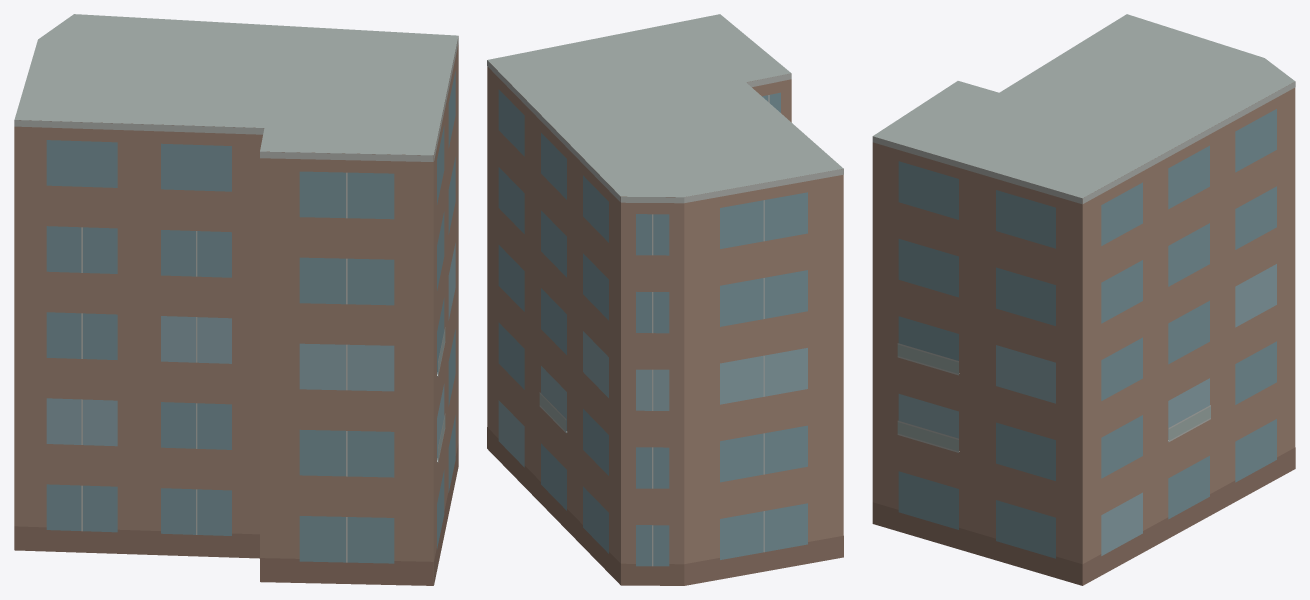
The model's file is survey-upis-33031201.glb.
The picture shows the model from 3 angles, left to right: view 1: azimuth 30°, elevation 25°; view 2: azimuth 150°, elevation 25°; view 3: azimuth 270°, elevation 25°; orthographic projection. The views are drawn at different scales.
Visible parts, largest first — view 1: survey-upis-33031201.tmp; view 2: survey-upis-33031201.tmp; view 3: survey-upis-33031201.tmp.
Boxes of the visible parts, x1,y1,x2,y2 form: survey-upis-33031201.tmp: [14, 14, 458, 585]; survey-upis-33031201.tmp: [487, 14, 843, 585]; survey-upis-33031201.tmp: [872, 14, 1295, 585].
Size of the model in its own units: 16.02 by 15.7 by 15.53.
